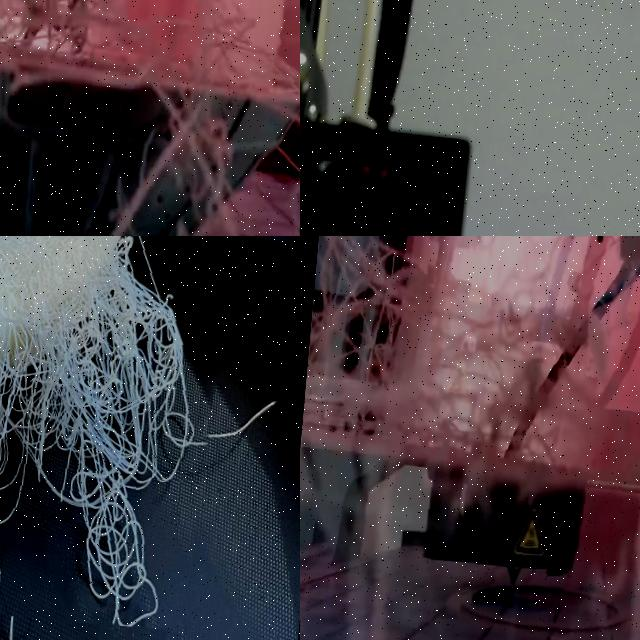spaghetti: (300, 236, 640, 640), (0, 236, 245, 633), (0, 0, 300, 236)
